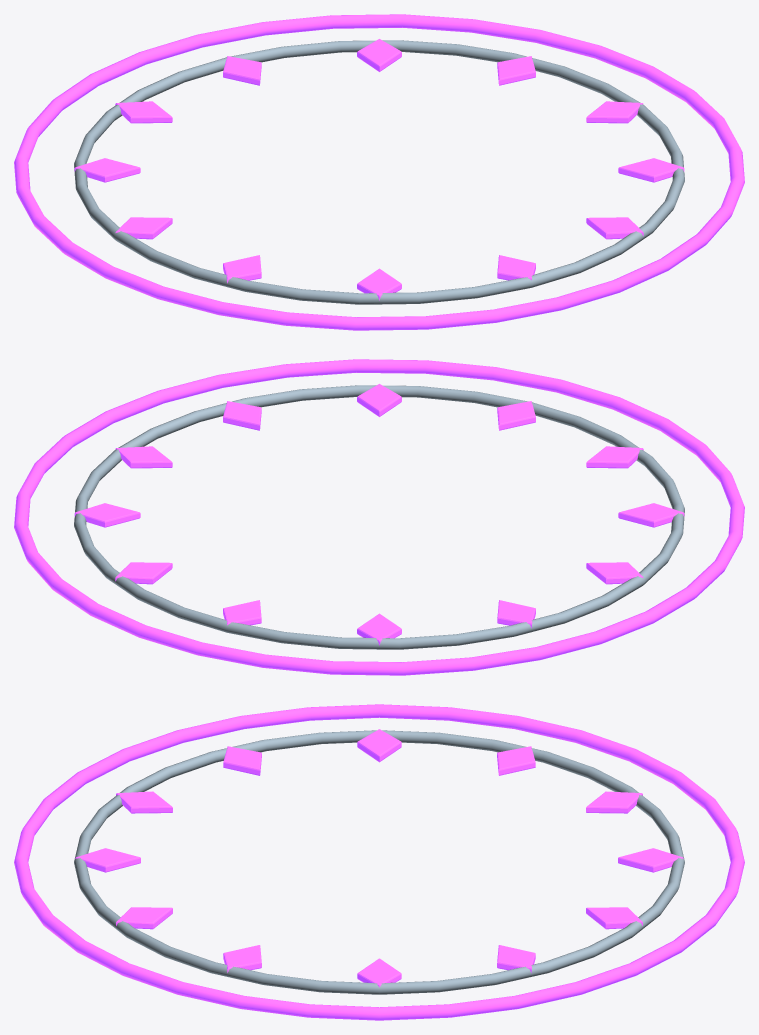
Rendered from moonsteel-convergence-targeting-seal-0558de67__18213.glb.
3 views of the same model, one above another, from view 1: azimuth 30°, elevation 25°; view 2: azimuth 150°, elevation 25°; view 3: azimuth 270°, elevation 25° (orthographic).
Parts seen in each view (by area): view 1: targeting-seal; view 2: targeting-seal; view 3: targeting-seal.
Part boxes in pixels (bbox=[...]): targeting-seal: bbox=[14, 14, 744, 330]; targeting-seal: bbox=[14, 359, 744, 675]; targeting-seal: bbox=[14, 704, 744, 1020].
Size of the model in its own units: 2.86 by 0.0561 by 2.86.
